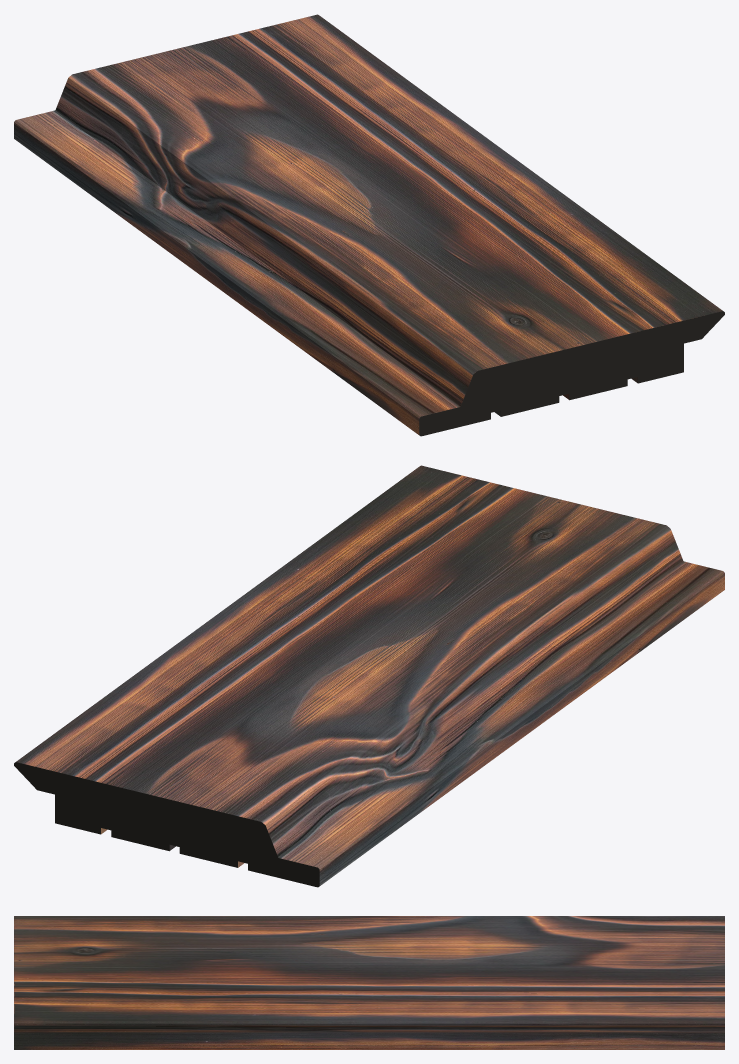
The model's file is larch-facade-half-tenon-45-natural.glb.
3 views of the same model, one above another, from view 1: azimuth 30°, elevation 25°; view 2: azimuth 150°, elevation 25°; view 3: azimuth 270°, elevation 25° (orthographic). The views are drawn at different scales.
Parts seen in each view (by area): view 1: Pusė_Špunto_45; view 2: Pusė_Špunto_45; view 3: Pusė_Špunto_45.
Part boxes in pixels (x1,y1,x2,y2): Pusė_Špunto_45: (14,14,724,436); Pusė_Špunto_45: (14,465,724,887); Pusė_Špunto_45: (14,916,724,1049).
Bounding box in the file's own units: 0.0723 × 0.0117 × 0.166.
Materials: 3 (1 with a texture image).
